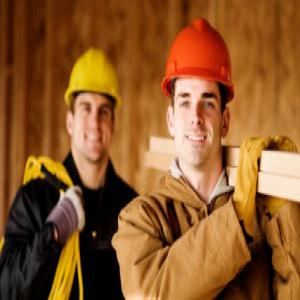red: (163, 20, 235, 166)
yellow: (67, 48, 119, 164)
